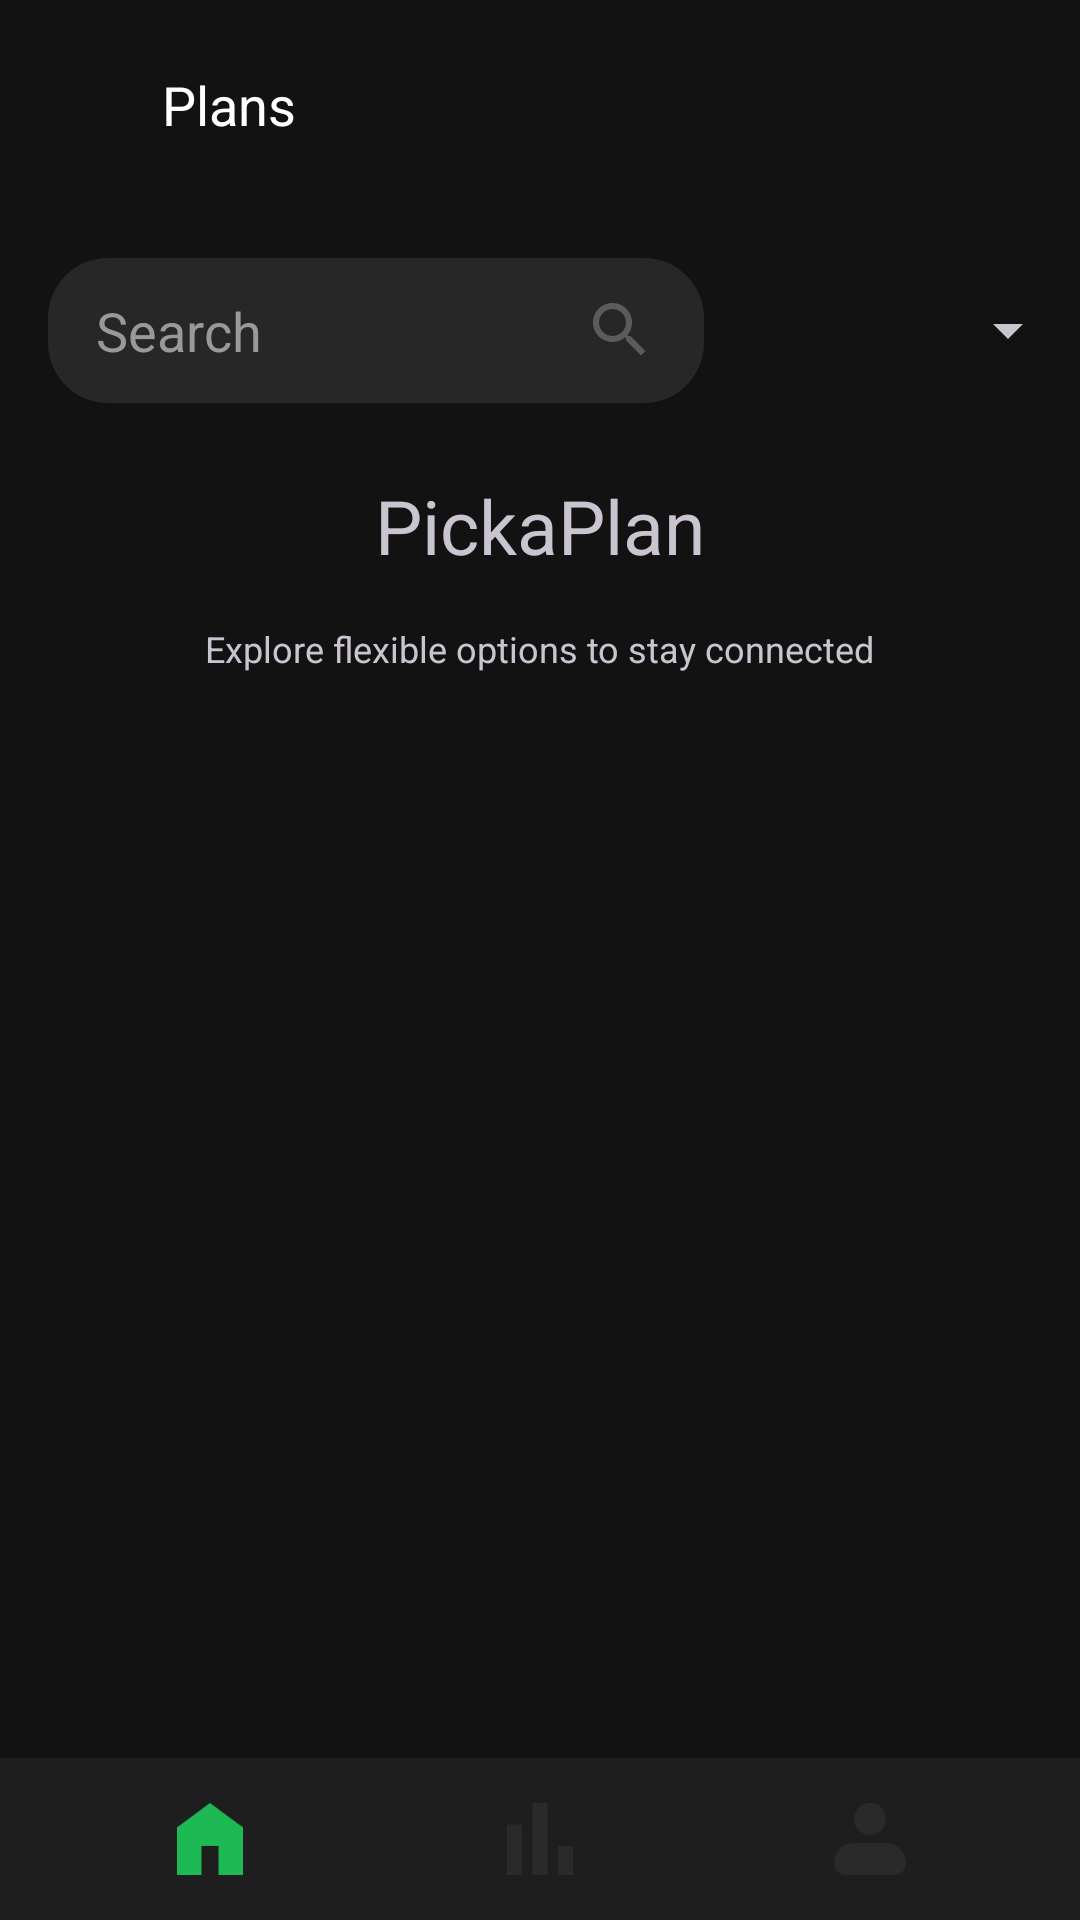

Where to tap for icons on this 1080 × 1920 app screen, as (x,y):
home: (210,1839)
